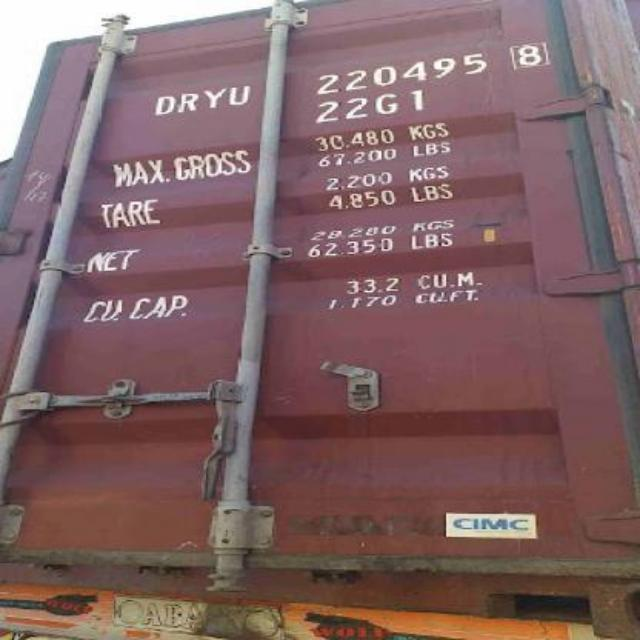0: (372, 64, 398, 88)
2: (314, 73, 344, 94), (344, 71, 370, 91)
4: (402, 60, 428, 84)
5: (458, 54, 492, 74)
8: (510, 44, 550, 66)
9: (432, 56, 460, 80)
D: (152, 94, 176, 116)
R: (174, 92, 200, 116)
U: (226, 85, 256, 106)
Y: (198, 89, 226, 109)
